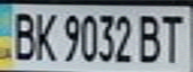0: (78, 10, 96, 63)
2: (112, 10, 136, 64)
3: (97, 10, 118, 63)
9: (57, 10, 81, 63)
B: (6, 8, 39, 62), (136, 11, 166, 64)
K: (30, 8, 57, 62)
T: (157, 10, 190, 64)
